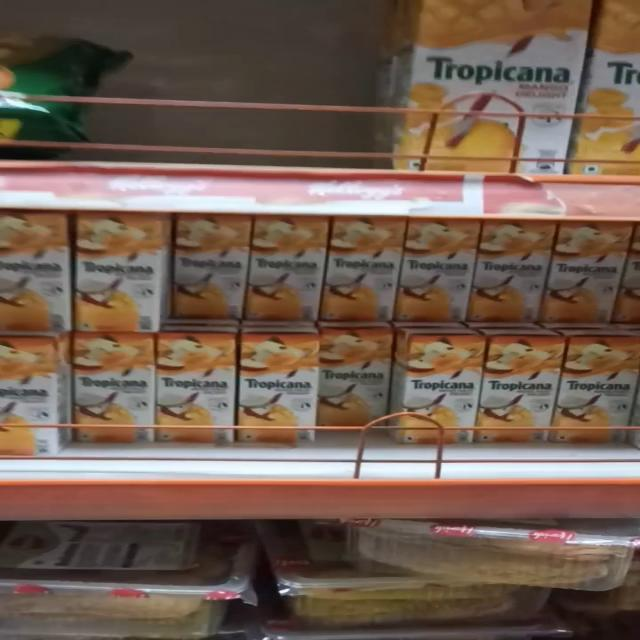Tropicana: (76, 213, 164, 333), (155, 332, 236, 444), (556, 336, 638, 442), (398, 334, 477, 444), (70, 336, 151, 441), (168, 214, 243, 324), (482, 334, 554, 444), (328, 216, 400, 324), (242, 331, 312, 441), (400, 220, 470, 328), (252, 214, 320, 322), (318, 332, 388, 432), (553, 218, 619, 320), (479, 222, 542, 324)
